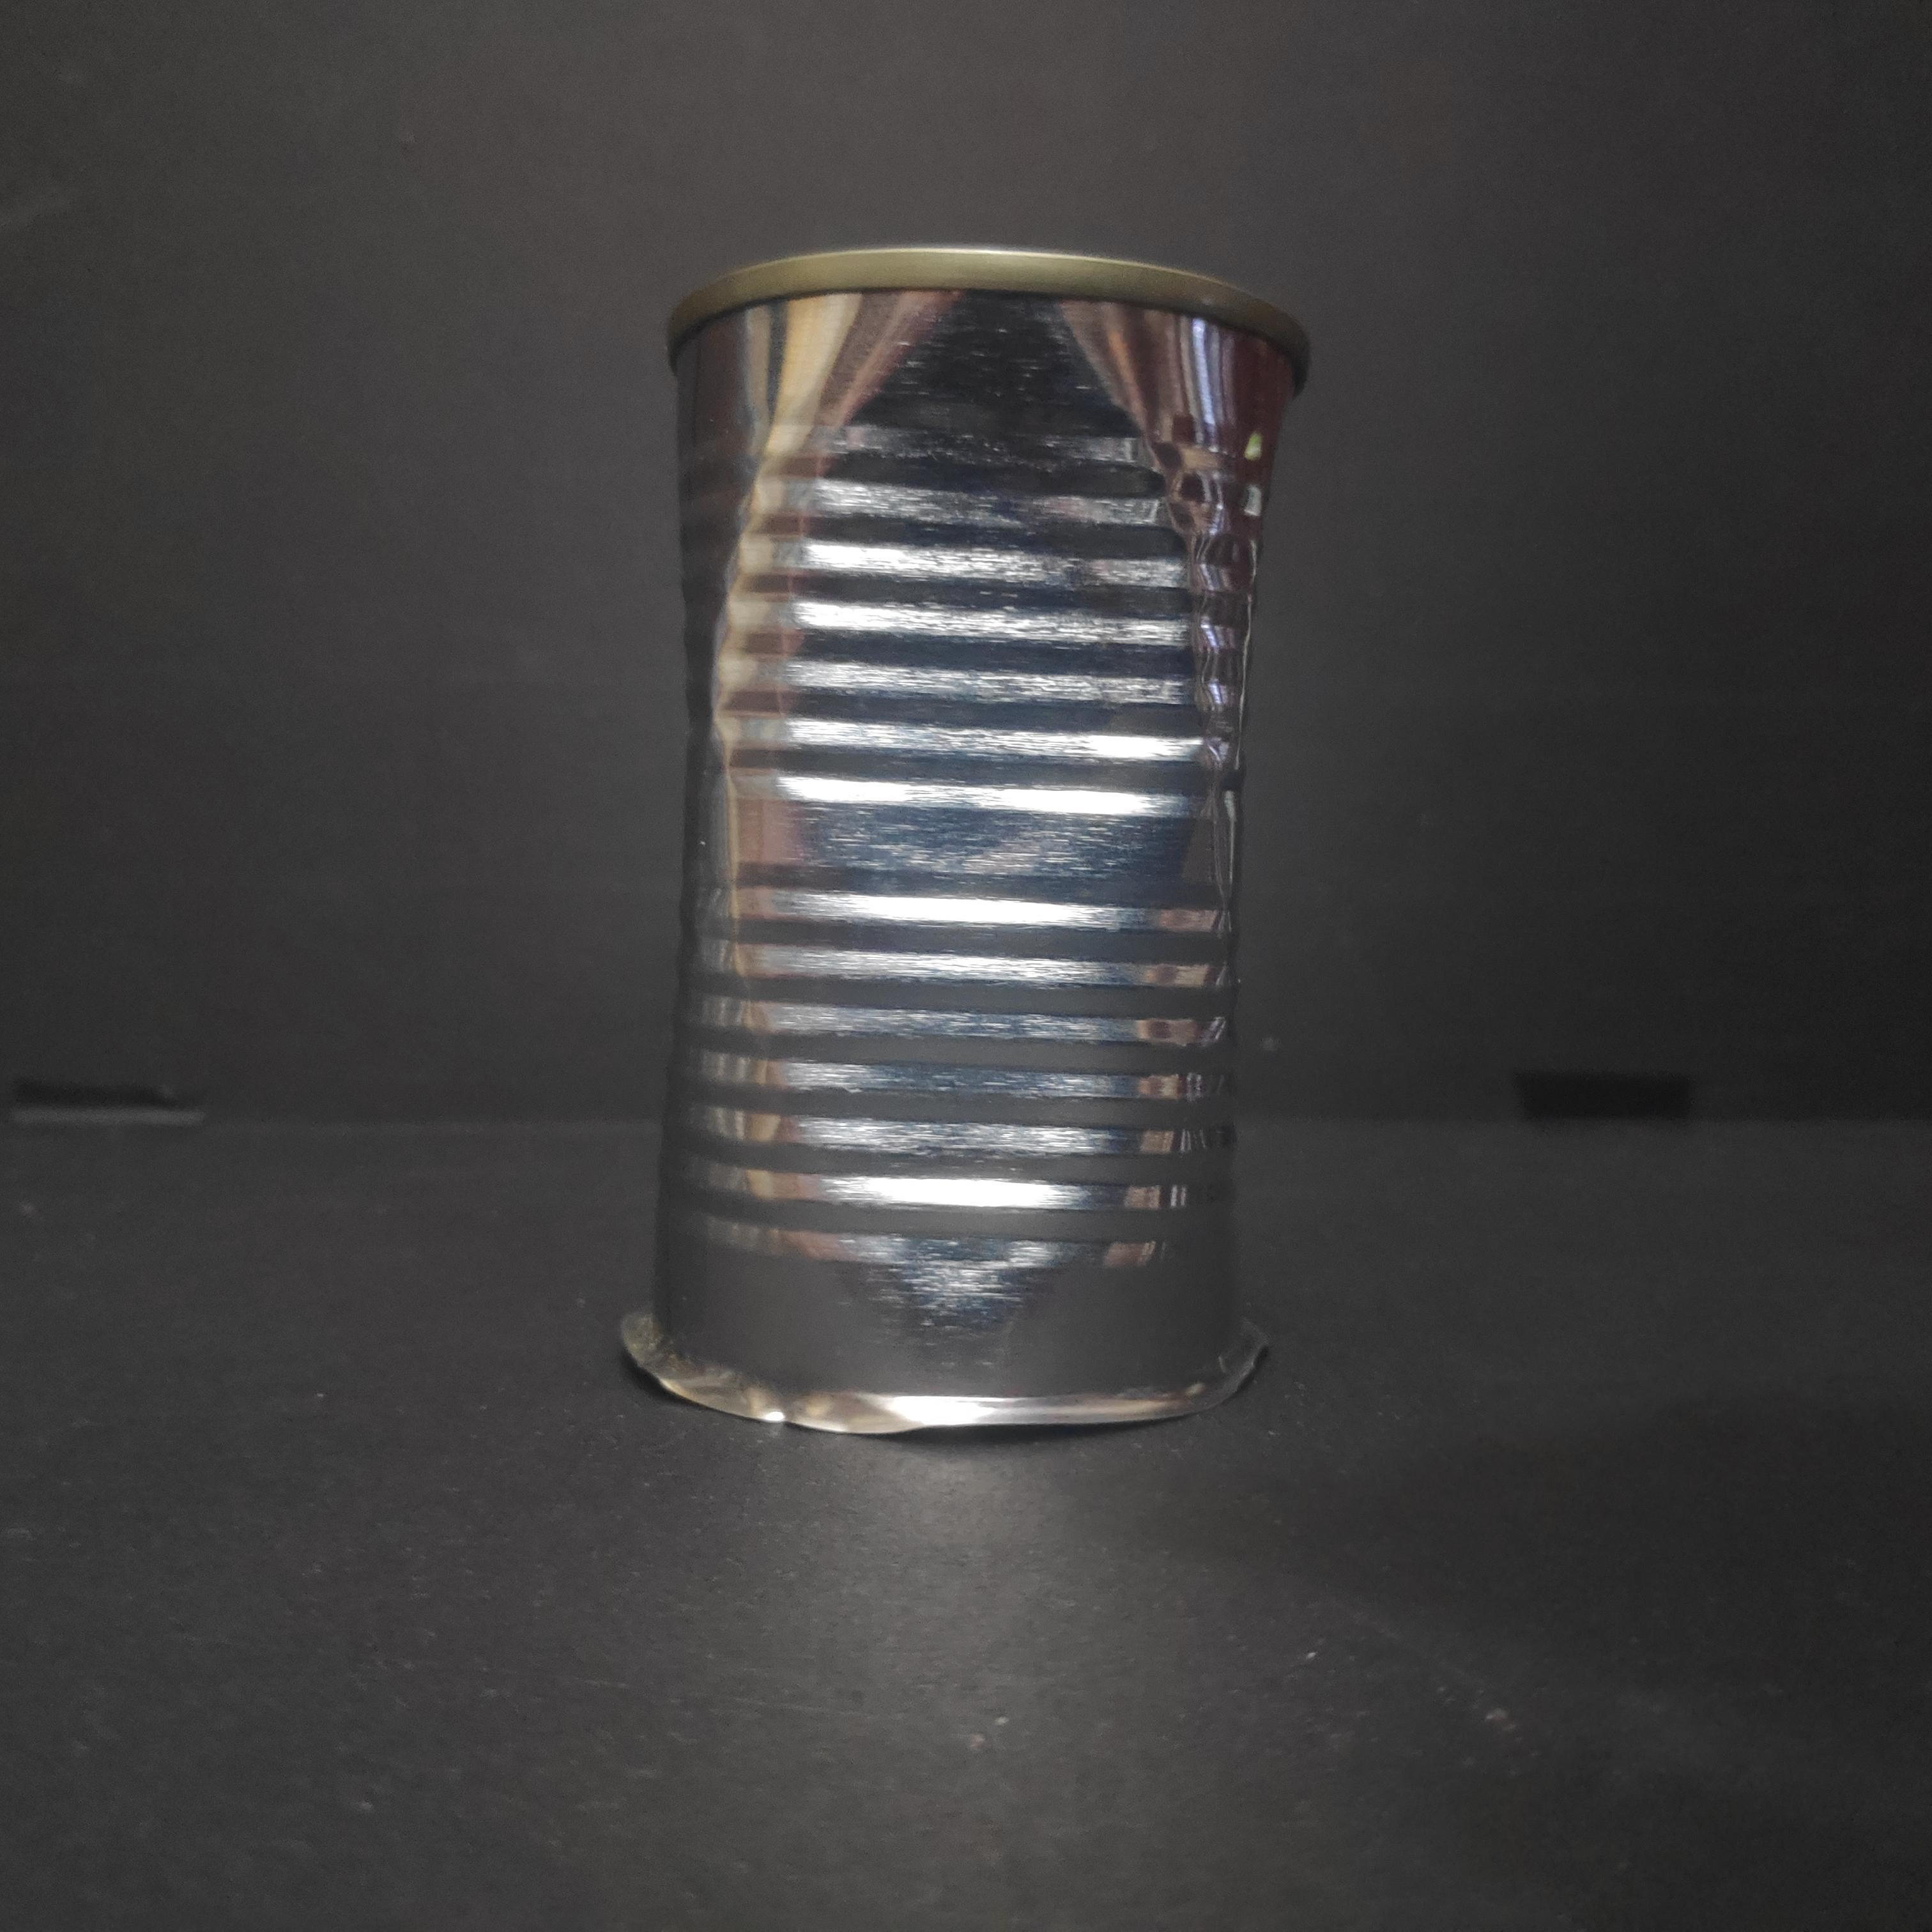Dented: (619, 230, 1329, 1451)
